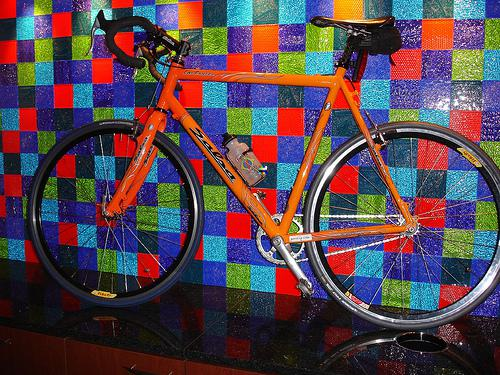car: (27, 10, 500, 331)
